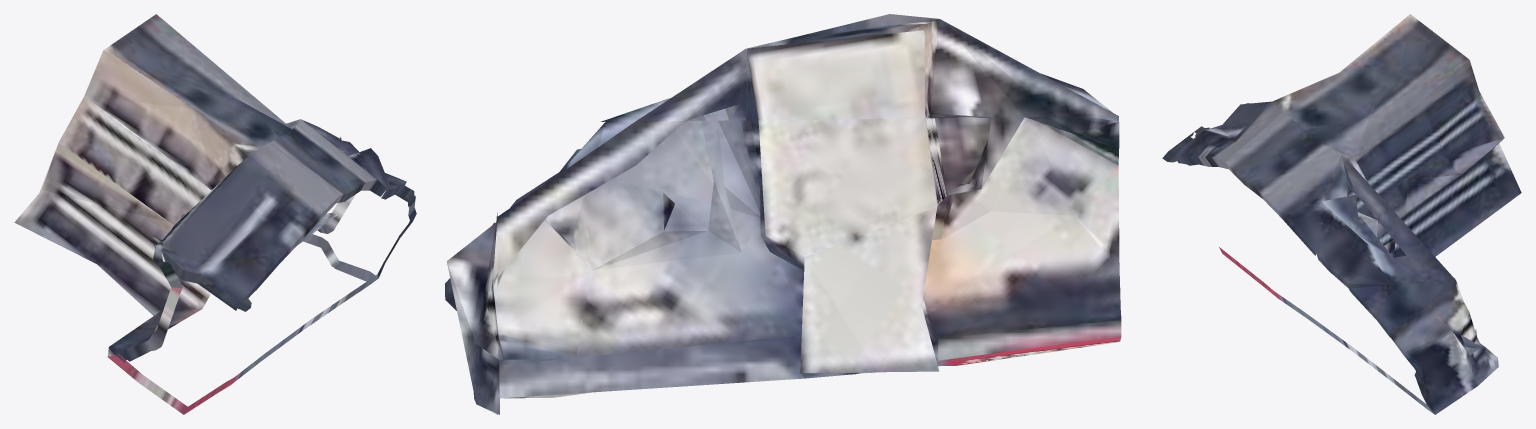
3 renders of one model, left to right at view 1: azimuth 30°, elevation 25°; view 2: azimuth 150°, elevation 25°; view 3: azimuth 270°, elevation 25°, orthographic. The views are drawn at different scales.
Size of the model in its own units: 18.25 by 14.08 by 16.67.
Materials: 1 (1 with a texture image).
